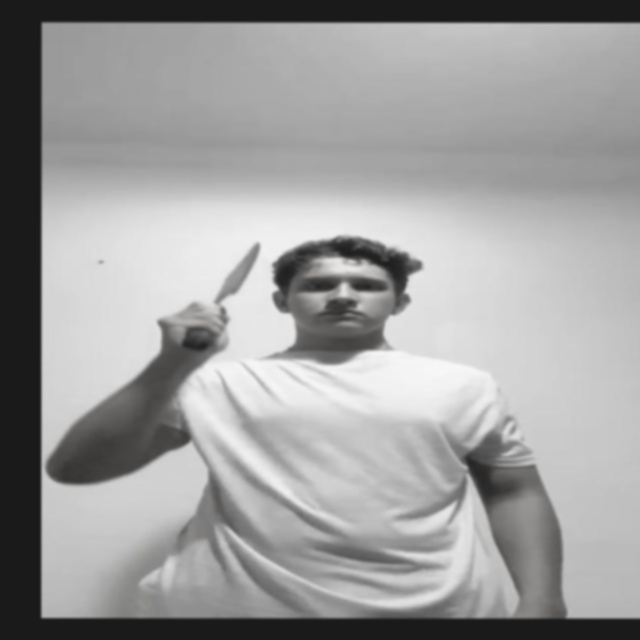Sharp-Object: (218, 243, 266, 298)
